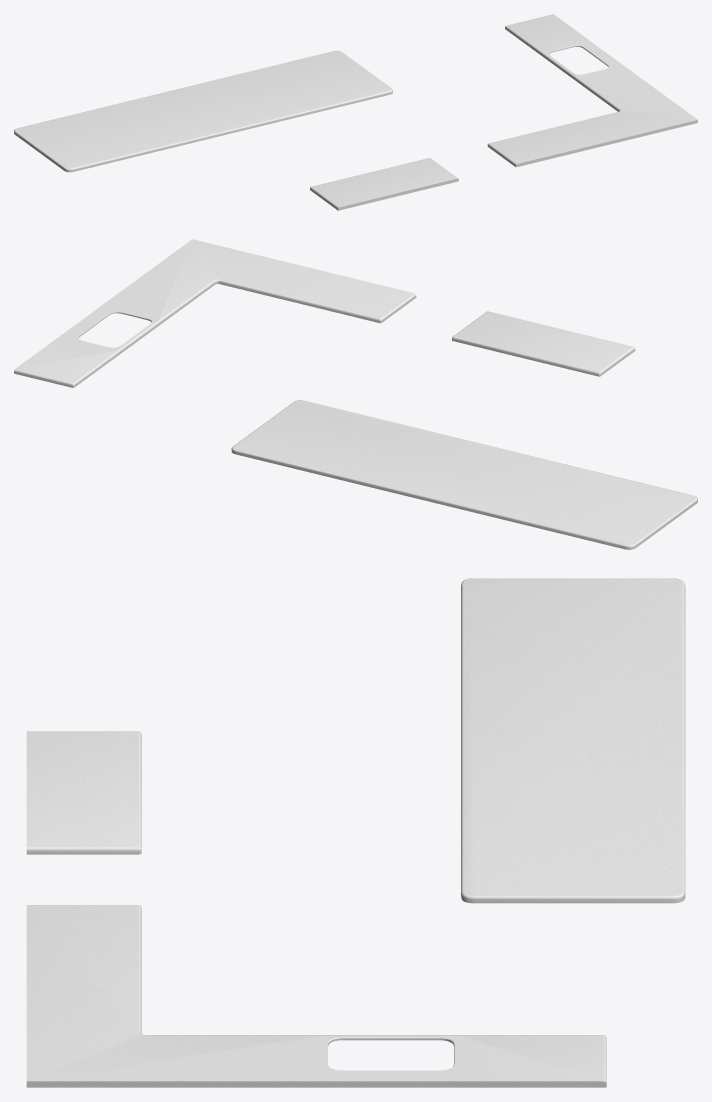
Rendered from 1860_kitchen_Countertops_QuartzArcticWhite.gltf.
The picture shows the model from 3 angles, top to bottom: view 1: azimuth 30°, elevation 25°; view 2: azimuth 150°, elevation 25°; view 3: azimuth 270°, elevation 25°; orthographic projection. The views are drawn at different scales.
Parts seen in each view (by area): view 1: Line18738; view 2: Line18738; view 3: Line18738.
Part boxes in pixels (x1,y1,x2,y2): Line18738: [14, 14, 697, 210]; Line18738: [14, 239, 697, 549]; Line18738: [26, 578, 685, 1087].
Bounding box in the file's own units: 8.6 × 0.09 × 4.7.
Materials: 1 (1 with a texture image).
